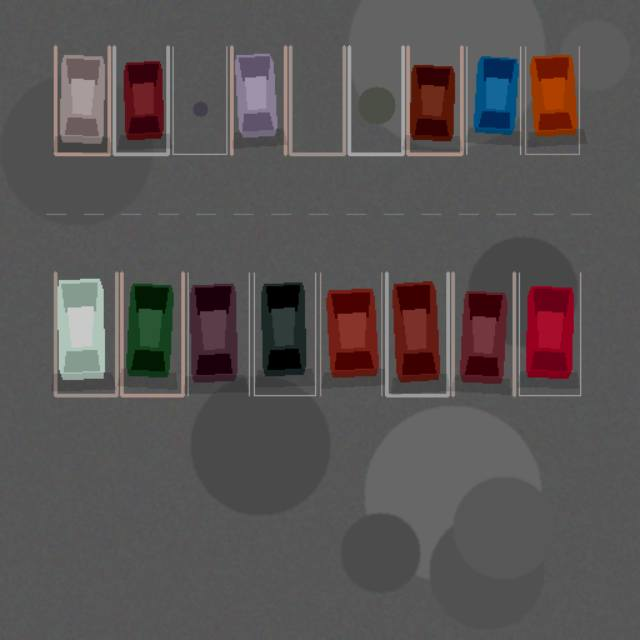space-empty: (172, 46, 226, 154), (290, 46, 344, 154), (349, 46, 402, 154)
space-occupied: (121, 272, 183, 395), (187, 272, 249, 395), (55, 272, 116, 395), (254, 272, 315, 395), (320, 272, 381, 395), (386, 272, 447, 395), (453, 272, 514, 395), (519, 272, 580, 395), (55, 46, 109, 154), (114, 46, 168, 154), (231, 46, 285, 154), (466, 46, 520, 154), (525, 46, 579, 154), (408, 46, 461, 154)
